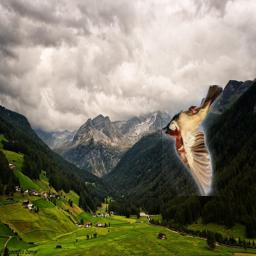Sparrow: (162, 85, 223, 196)
